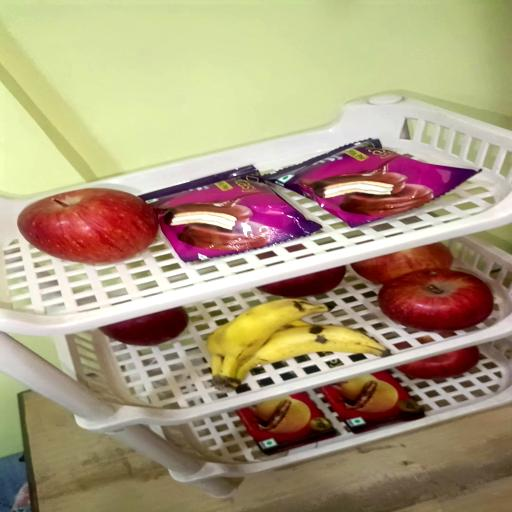Apple: (18, 190, 158, 266), (378, 270, 493, 333), (351, 243, 453, 287), (99, 308, 187, 347), (258, 267, 348, 299), (395, 347, 478, 379)
Choco Fills: (322, 371, 424, 432), (238, 392, 337, 454)
Choco Pie: (270, 141, 480, 229), (140, 168, 322, 264)
